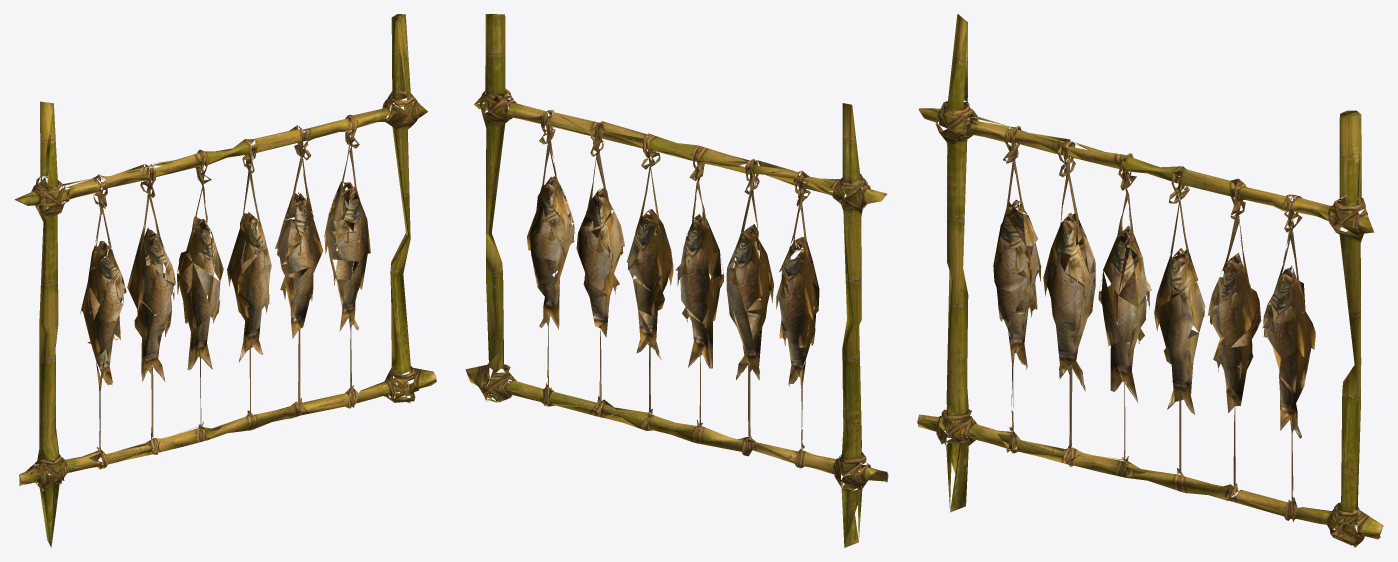
The model's file is fischgestell.glb.
3 views of the same model, side by side, from view 1: azimuth 30°, elevation 25°; view 2: azimuth 150°, elevation 25°; view 3: azimuth 330°, elevation 25° (orthographic). The views are drawn at different scales.
Bounding box in the file's own units: 1.88 × 1.9 × 0.1574.
Materials: 1 (1 with a texture image).
